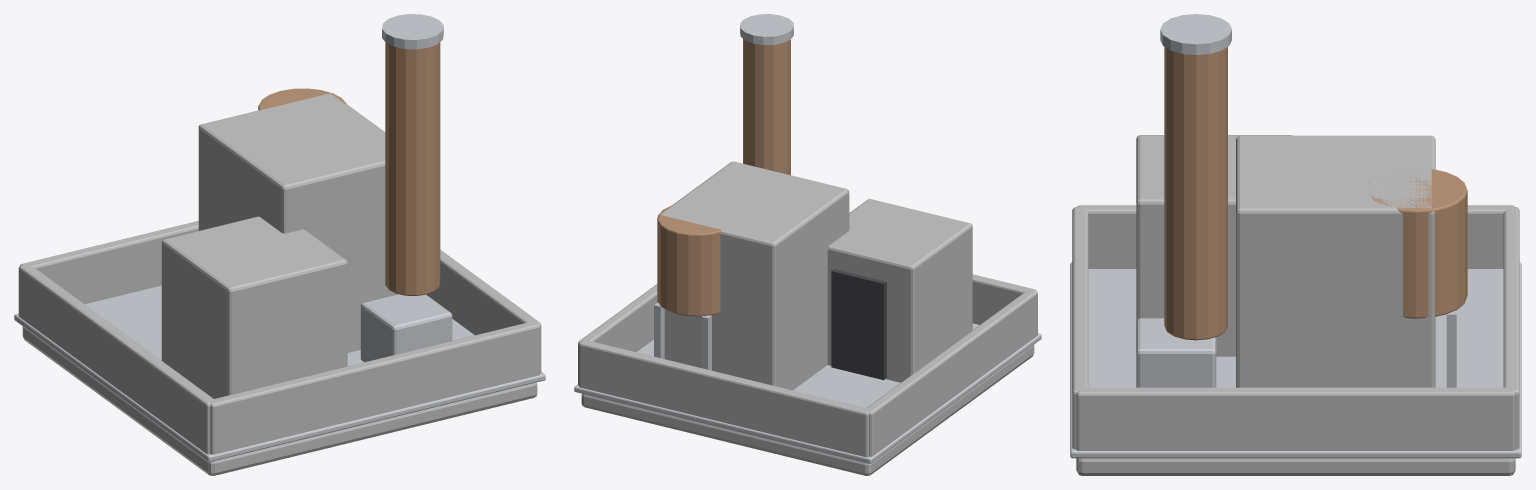
Rendered from roof_2x2_boiler_concrete.glb.
3 renders of one model, left to right at view 1: azimuth 30°, elevation 25°; view 2: azimuth 150°, elevation 25°; view 3: azimuth 270°, elevation 25°, orthographic. The views are drawn at different scales.
Visible parts, largest first — view 1: ext_parapet, ext_penthouse, ext_boiler, ext_stack, int_slab, int_slab_edge, ext_ac, ext_stack_top, ext_tank; view 2: ext_boiler, ext_parapet, ext_penthouse, ext_stack, ext_tank, int_slab, int_slab_edge, ext_penthouse_door, ext_stack_top, ext_tank_legs; view 3: ext_boiler, ext_parapet, ext_stack, int_slab_edge, ext_tank, int_slab, ext_penthouse, ext_ac, ext_stack_top, ext_tank_legs.
Boxes of the visible parts, x1=… form: ext_parapet: x1=18, y1=221, x2=541, y2=454; ext_penthouse: x1=161, y1=216, x2=347, y2=398; ext_boiler: x1=198, y1=93, x2=397, y2=352; ext_stack: x1=385, y1=42, x2=440, y2=295; int_slab: x1=22, y1=326, x2=537, y2=475; int_slab_edge: x1=14, y1=285, x2=545, y2=462; ext_ac: x1=353, y1=291, x2=452, y2=362; ext_stack_top: x1=382, y1=14, x2=443, y2=49; ext_tank: x1=258, y1=88, x2=346, y2=110; ext_boiler: x1=657, y1=161, x2=849, y2=390; ext_parapet: x1=578, y1=274, x2=1037, y2=457; ext_penthouse: x1=827, y1=199, x2=972, y2=382; ext_stack: x1=743, y1=39, x2=790, y2=175; ext_tank: x1=657, y1=205, x2=721, y2=316; int_slab: x1=581, y1=344, x2=1034, y2=475; int_slab_edge: x1=574, y1=323, x2=1041, y2=463; ext_penthouse_door: x1=831, y1=269, x2=886, y2=380; ext_stack_top: x1=740, y1=14, x2=793, y2=44; ext_tank_legs: x1=654, y1=302, x2=711, y2=370; ext_boiler: x1=1236, y1=135, x2=1435, y2=387; ext_parapet: x1=1072, y1=205, x2=1519, y2=450; ext_stack: x1=1164, y1=47, x2=1227, y2=340; int_slab_edge: x1=1070, y1=262, x2=1521, y2=458; ext_tank: x1=1368, y1=169, x2=1467, y2=318; int_slab: x1=1076, y1=458, x2=1515, y2=475; ext_penthouse: x1=1136, y1=135, x2=1292, y2=356; ext_ac: x1=1136, y1=318, x2=1216, y2=387; ext_stack_top: x1=1160, y1=14, x2=1231, y2=55; ext_tank_legs: x1=1446, y1=310, x2=1456, y2=387.
Bounding box in the file's own units: 2.26 × 2.25 × 2.26.
